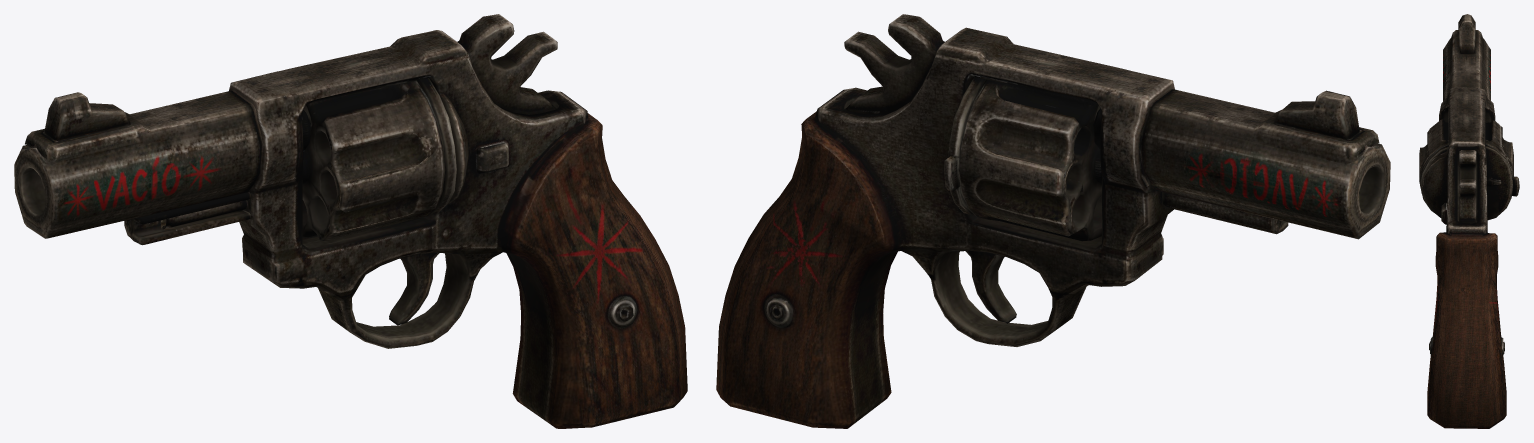
File: Revolver.glb
3 renders of one model, left to right at view 1: azimuth 30°, elevation 25°; view 2: azimuth 150°, elevation 25°; view 3: azimuth 270°, elevation 25°, orthographic. The views are drawn at different scales.
Parts seen in each view (by area): view 1: tripo_node_cb4fc1e7-e84b-4773-b8f6-d65813e381c3; view 2: tripo_node_cb4fc1e7-e84b-4773-b8f6-d65813e381c3; view 3: tripo_node_cb4fc1e7-e84b-4773-b8f6-d65813e381c3.
Part boxes in pixels (x1=…): tripo_node_cb4fc1e7-e84b-4773-b8f6-d65813e381c3: x1=14, y1=14, x2=687, y2=428; tripo_node_cb4fc1e7-e84b-4773-b8f6-d65813e381c3: x1=716, y1=14, x2=1390, y2=428; tripo_node_cb4fc1e7-e84b-4773-b8f6-d65813e381c3: x1=1419, y1=14, x2=1519, y2=428.
Size of the model in its own units: 0.998 by 0.6582 by 0.2402.
Materials: 1 (1 with a texture image).
